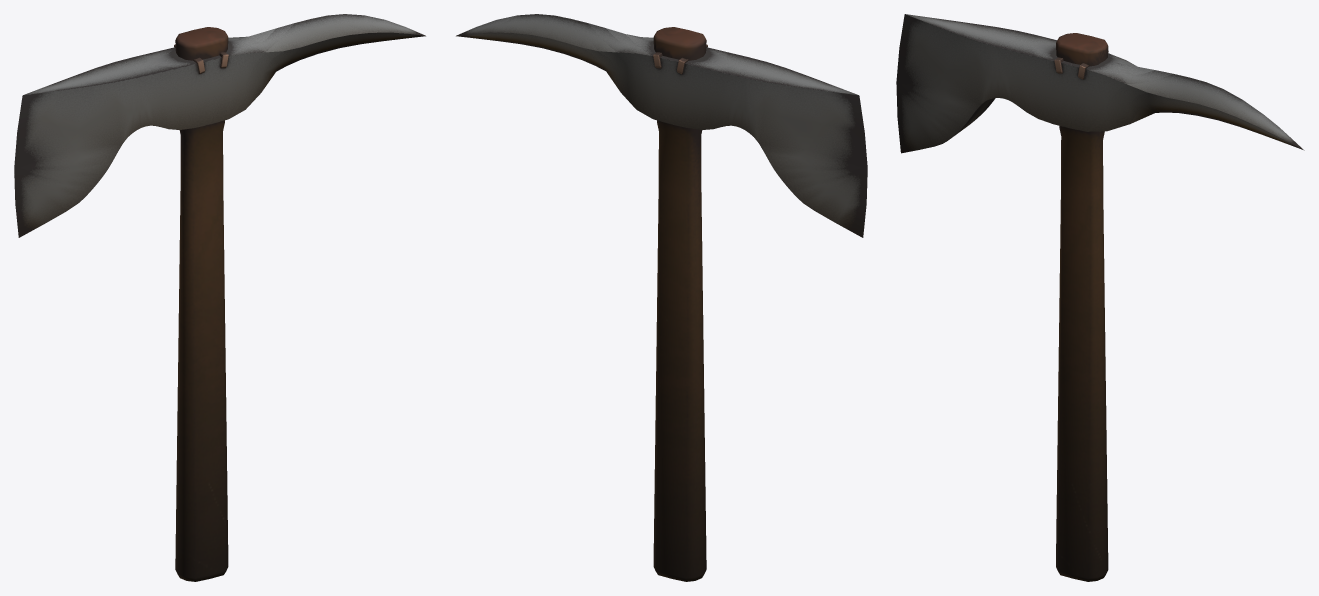
The model's file is Pick.glb.
The picture shows the model from 3 angles, left to right: view 1: azimuth 30°, elevation 25°; view 2: azimuth 150°, elevation 25°; view 3: azimuth 330°, elevation 25°; orthographic projection.
Parts seen in each view (by area): view 1: Pick; view 2: Pick; view 3: Pick.
Boxes of the visible parts, x1,y1,x2,y2 form: Pick: [14, 14, 425, 581]; Pick: [456, 14, 867, 581]; Pick: [896, 14, 1304, 581].
Bounding box in the file's own units: 3.8 × 4.74 × 0.3838.
Materials: 1 (1 with a texture image).
